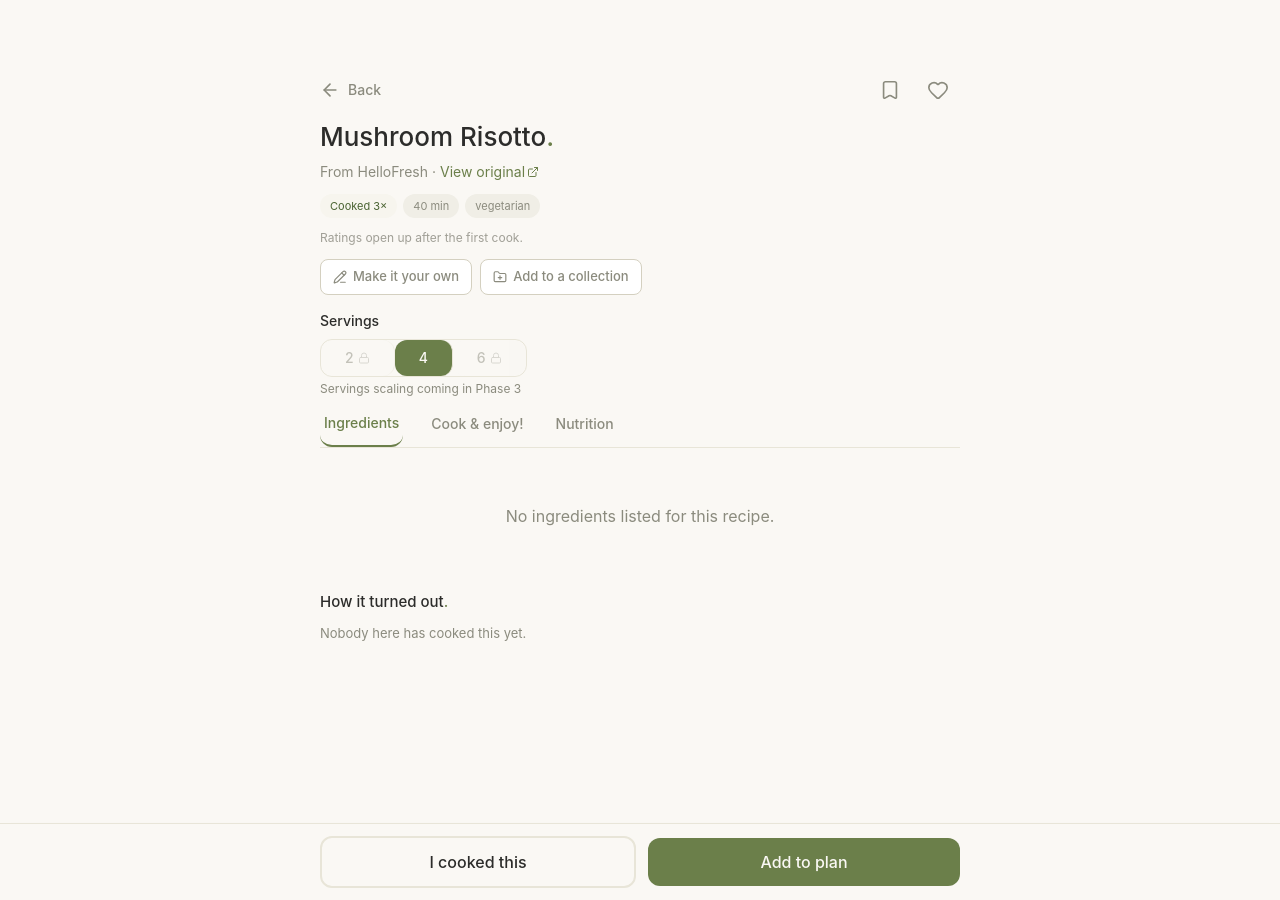
RecipeDetail › SourceLine › renders source attribution when source_url is set
The image size is (1280, 900).
Check: the number of links "View original" is 1, box [440,162,539,182]
Click the button "Cook & enjoy!" at (477, 430), box [427,413,528,447]
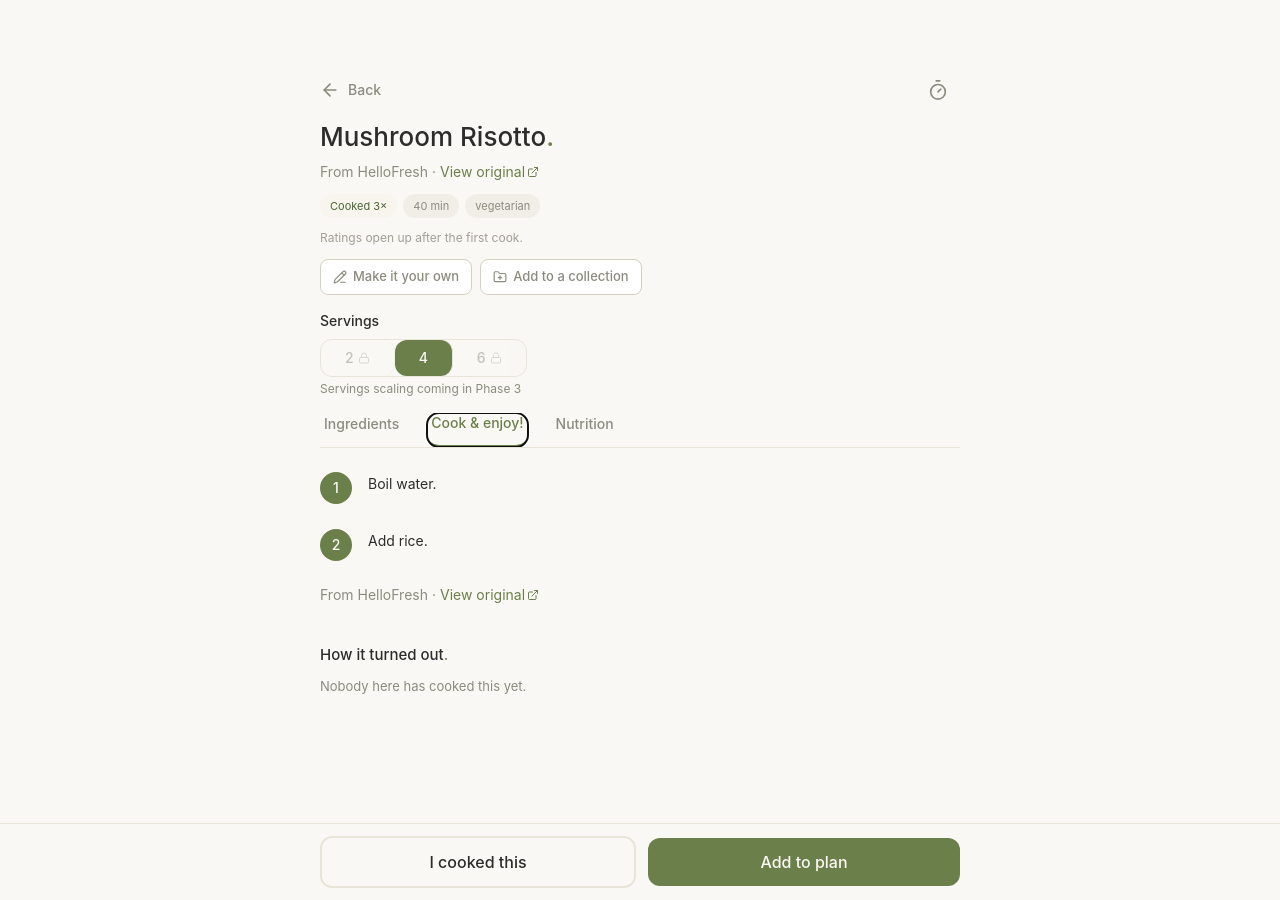
Check: the number of links "View original" is 2, box [440,162,539,182]; [440,585,539,605]
